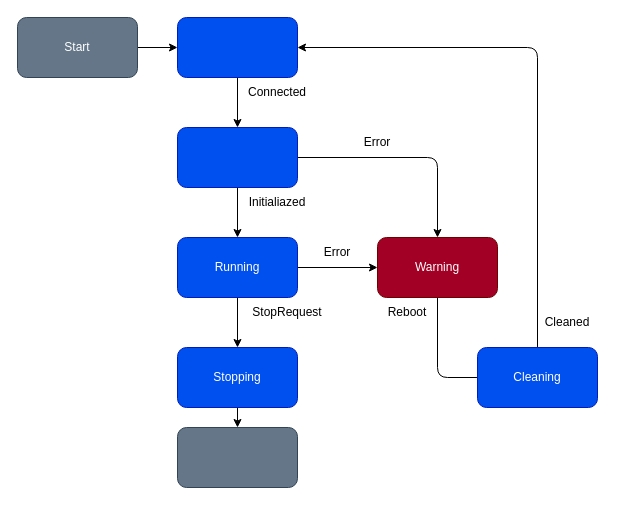
This 623x505 diagram has some shape labels left out. Each missing label, with the box of its shape:
Connecting: (176, 16, 298, 78)
End: (176, 426, 298, 488)
Initializing: (176, 126, 298, 188)
